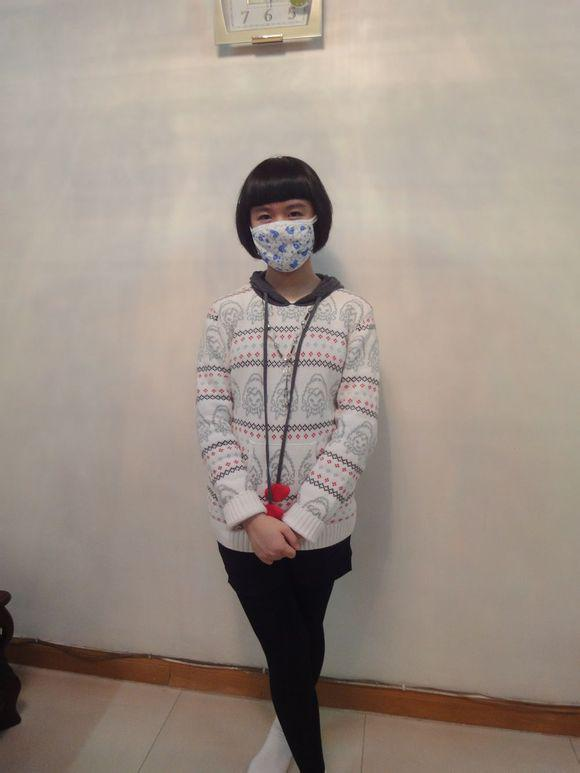OK: (246, 192, 328, 269)
